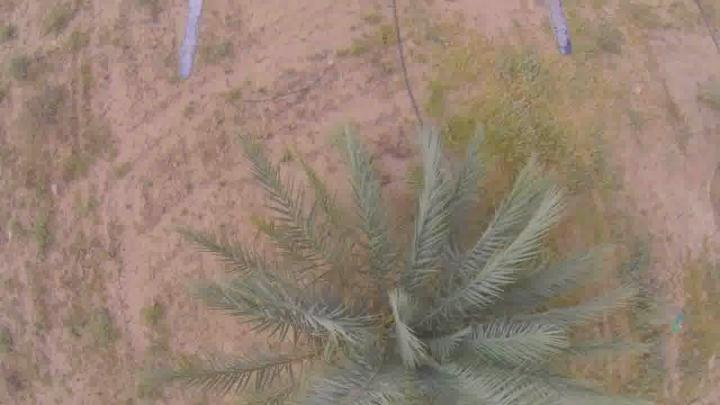Date-Palm-Crown: (292, 214, 516, 404)
